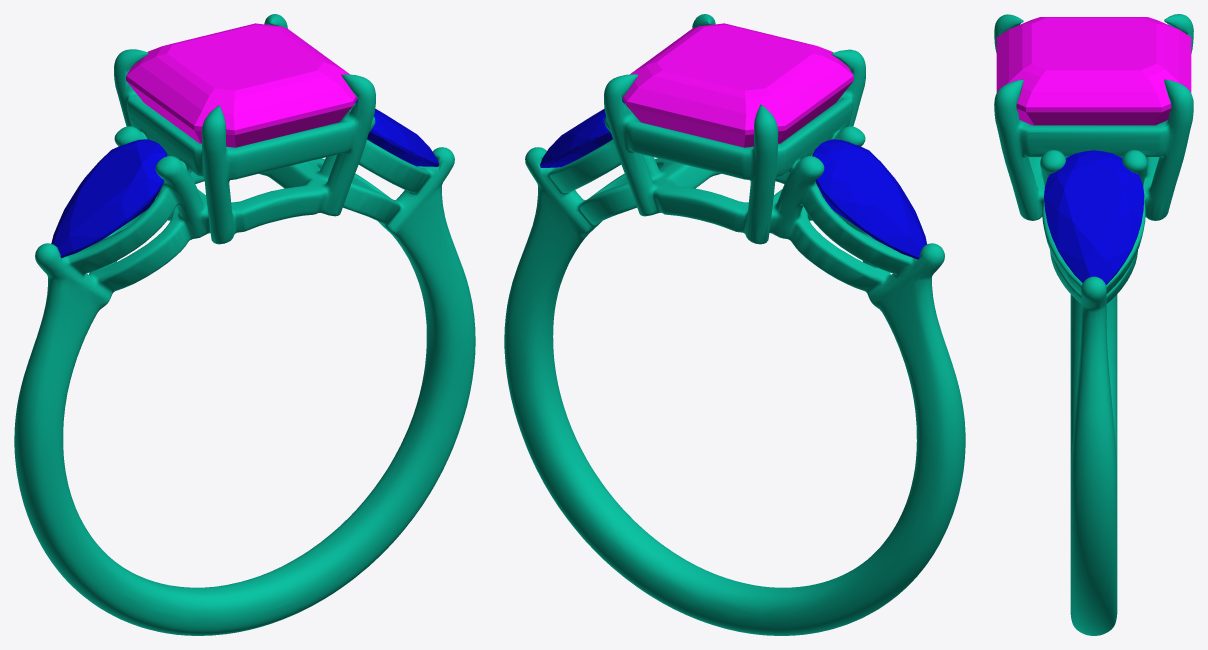
Rendered from BE1D9008_AS_200ct_RENDER.glb.
The picture shows the model from 3 angles, left to right: view 1: azimuth 30°, elevation 25°; view 2: azimuth 150°, elevation 25°; view 3: azimuth 270°, elevation 25°; orthographic projection.
Parts seen in each view (by area): view 1: Metal 01, CS_Diamond_Asscher, Diamond_Pear_side, Diamond_Pear_side.001; view 2: Metal 01, CS_Diamond_Asscher, Diamond_Pear_side, Diamond_Pear_side.001; view 3: Metal 01, CS_Diamond_Asscher, Diamond_Pear_side.001.
Boxes of the visible parts, bbox=[...] form: Metal 01: bbox=[14, 14, 475, 635]; CS_Diamond_Asscher: bbox=[126, 23, 357, 147]; Diamond_Pear_side: bbox=[51, 139, 167, 257]; Diamond_Pear_side.001: bbox=[355, 99, 438, 166]; Metal 01: bbox=[504, 14, 965, 635]; CS_Diamond_Asscher: bbox=[622, 23, 853, 147]; Diamond_Pear_side: bbox=[812, 139, 926, 259]; Diamond_Pear_side.001: bbox=[540, 99, 624, 167]; Metal 01: bbox=[994, 14, 1193, 635]; CS_Diamond_Asscher: bbox=[996, 17, 1191, 125]; Diamond_Pear_side.001: bbox=[1044, 150, 1144, 284].
Size of the model in its own units: 20.1 by 24.12 by 7.69.
